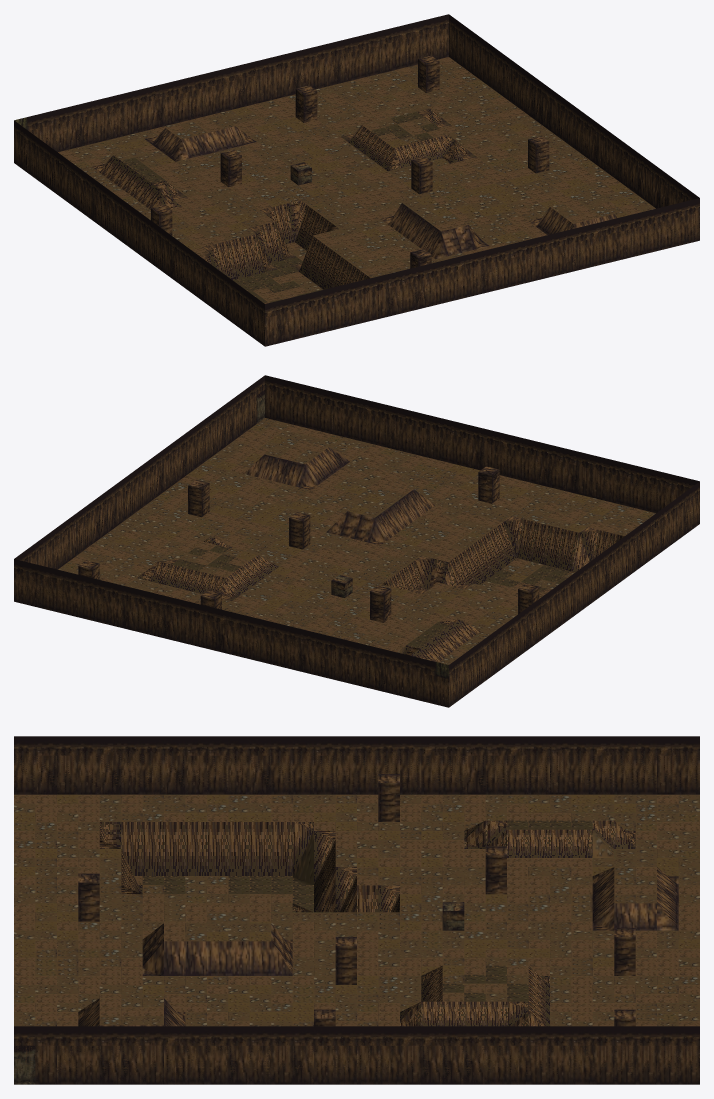
The model's file is STAGE_1.obj.
The picture shows the model from 3 angles, top to bottom: view 1: azimuth 30°, elevation 25°; view 2: azimuth 150°, elevation 25°; view 3: azimuth 270°, elevation 25°; orthographic projection. The views are drawn at different scales.
Visible parts, largest first — view 1: Default; view 2: Default; view 3: Default.
Boxes of the visible parts, bbox=[...] form: Default: bbox=[14, 14, 699, 346]; Default: bbox=[14, 375, 699, 707]; Default: bbox=[14, 736, 699, 1084].
Bounding box in the file's own units: 32 × 5.38 × 32.
2 materials, 2 textured.
